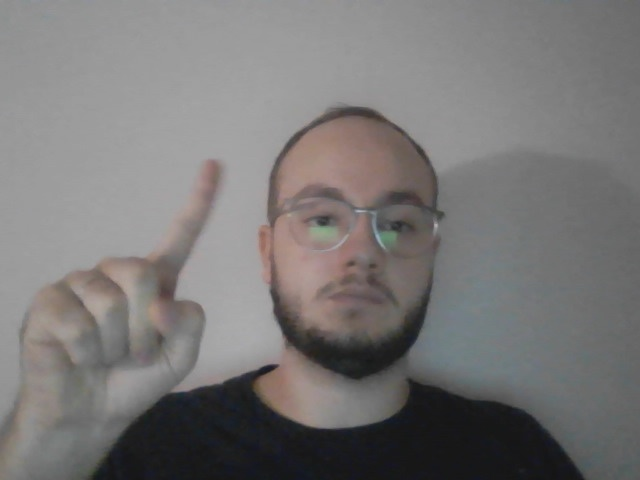One: (18, 158, 222, 414)
